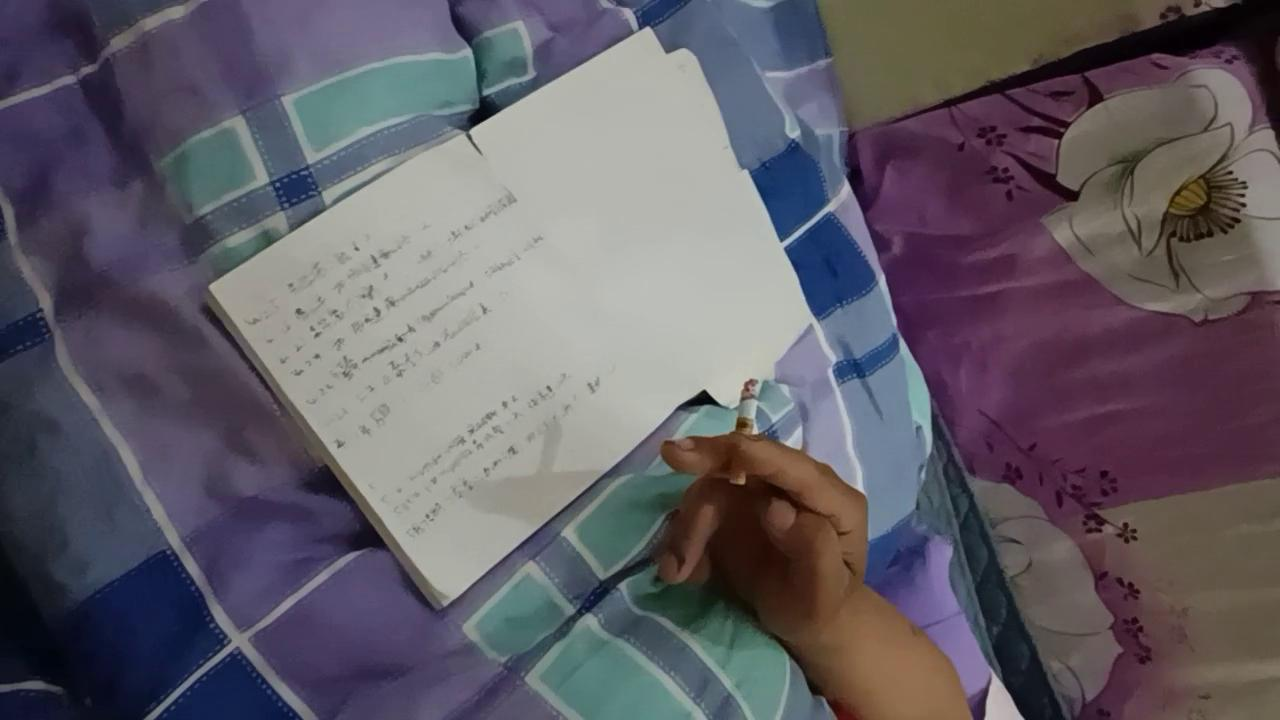smoke: (728, 377, 760, 487)
